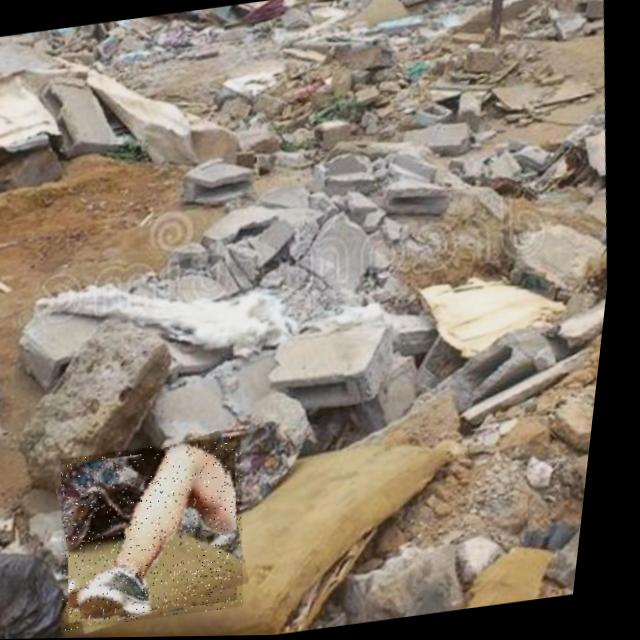Person in Rubble: (56, 435, 272, 631)
